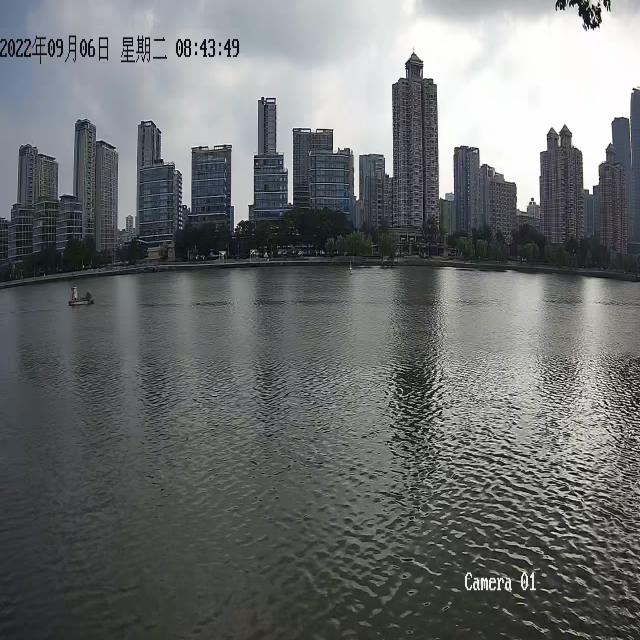ship: (68, 284, 94, 304)
